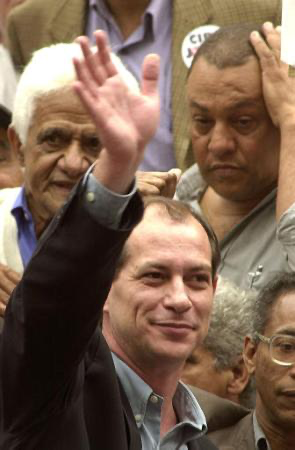Face: (116, 242, 220, 367), (18, 106, 118, 222), (189, 79, 273, 205), (252, 305, 294, 427)
